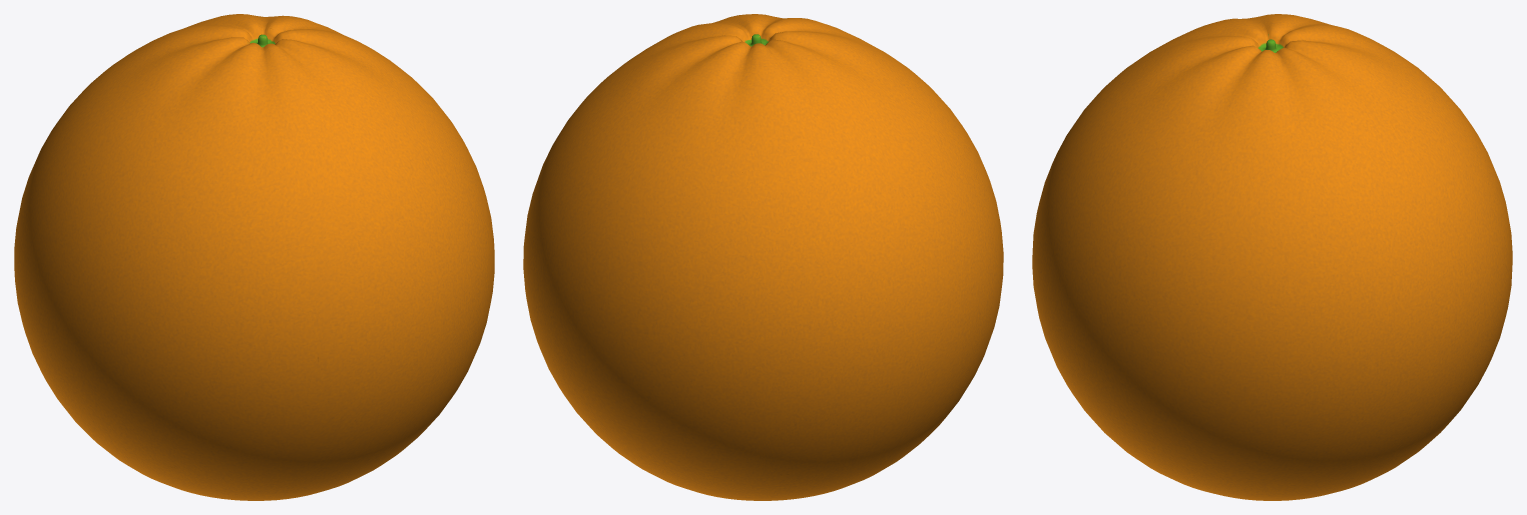
File: KitchenOrange.005.fbx
The picture shows the model from 3 angles, left to right: view 1: azimuth 30°, elevation 25°; view 2: azimuth 150°, elevation 25°; view 3: azimuth 270°, elevation 25°; orthographic projection.
Parts seen in each view (by area): view 1: KitchenOrange.005_Baked; view 2: KitchenOrange.005_Baked; view 3: KitchenOrange.005_Baked.
Boxes of the visible parts, left/top/right/bottom form: KitchenOrange.005_Baked: left=14, top=14, right=494, bottom=500; KitchenOrange.005_Baked: left=523, top=14, right=1003, bottom=500; KitchenOrange.005_Baked: left=1032, top=14, right=1512, bottom=500.
Size of the model in its own units: 10.05 by 10.07 by 10.05.
1 material, 1 textured.
